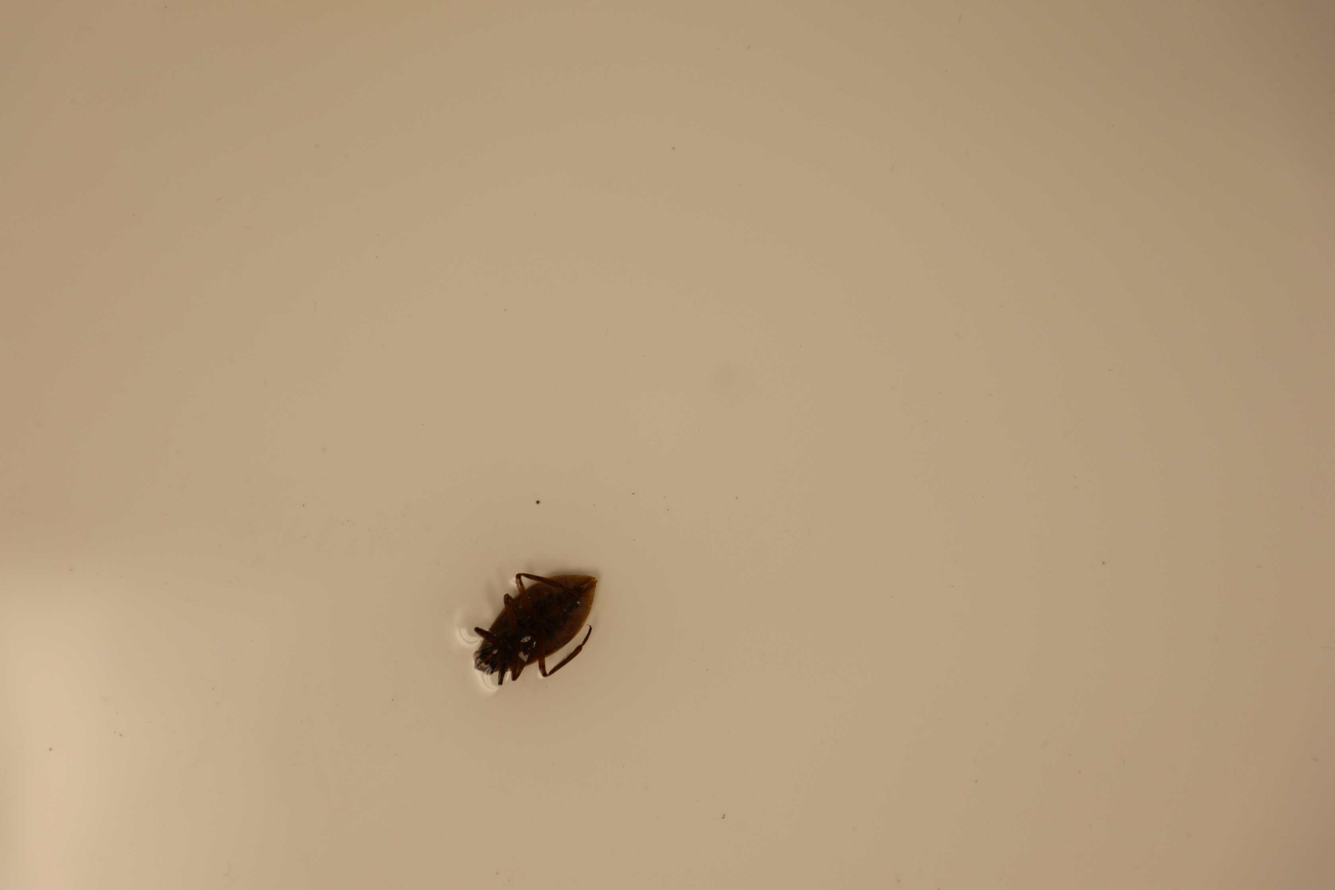Other: (466, 567, 599, 694)
